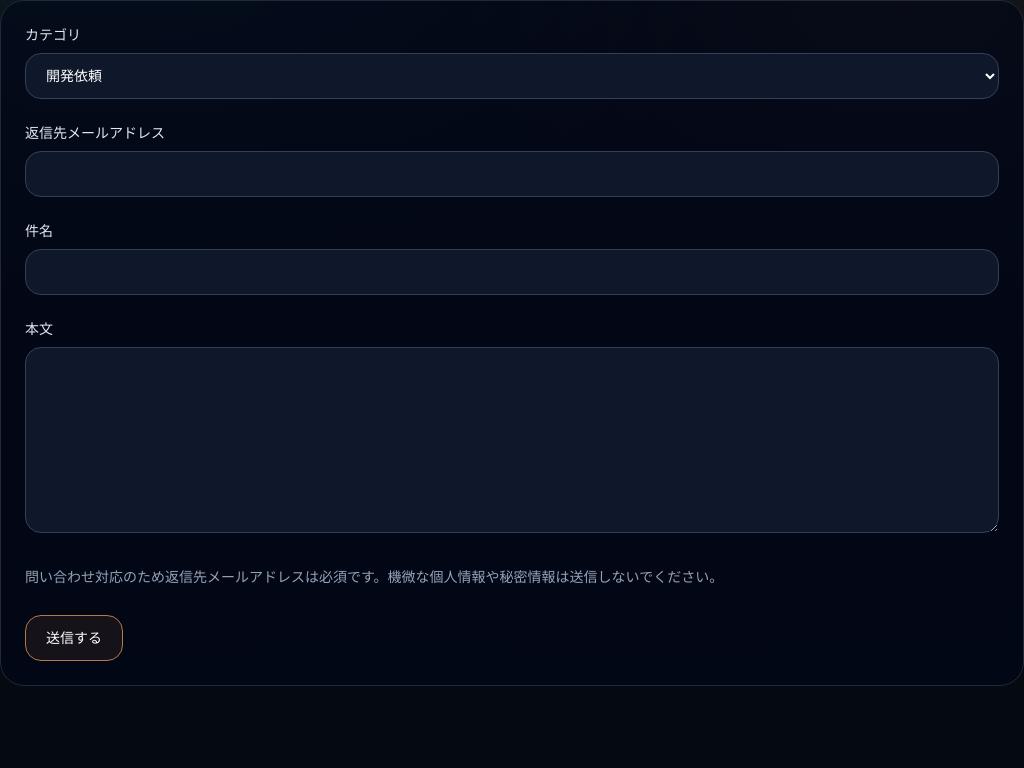
it: ContactForm › shows validation errors when submitted empty
Click the button "送信する".
click(74, 638)  # box [25,615,123,661]
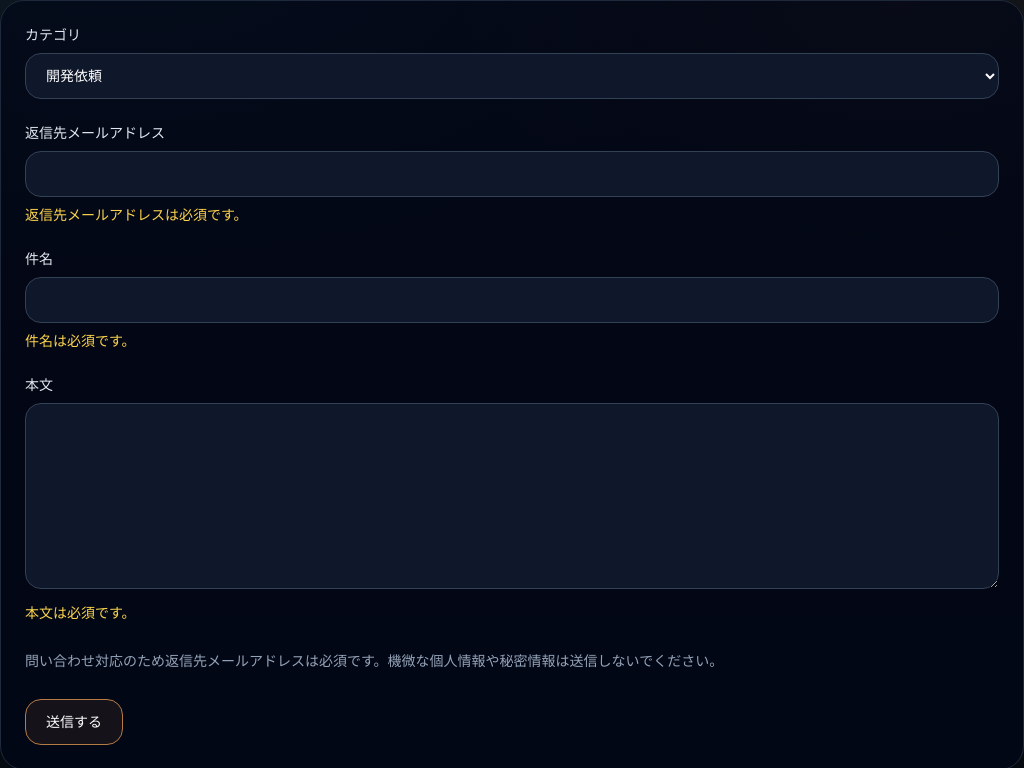
Now the text "返信先メールアドレスは必須です。" is shown, box [25,206,248,224]
Now the text "件名は必須です。" is shown, box [25,332,136,350]
Now the text "本文は必須です。" is shown, box [25,604,136,622]
